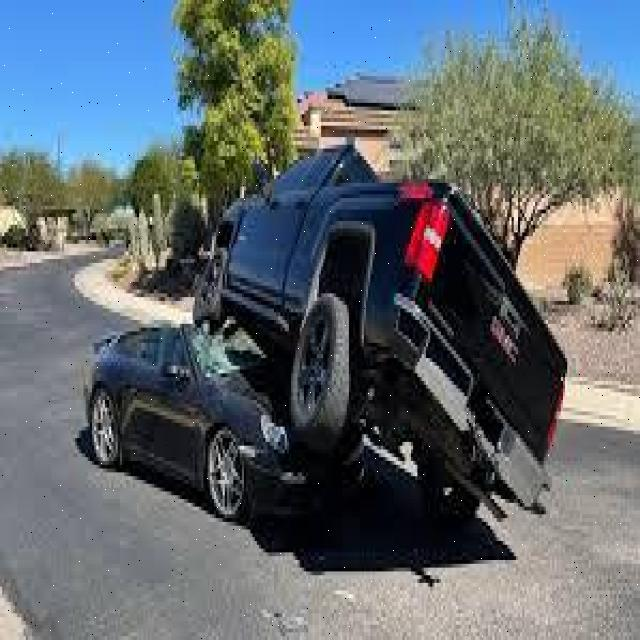severe: (84, 141, 572, 545)
